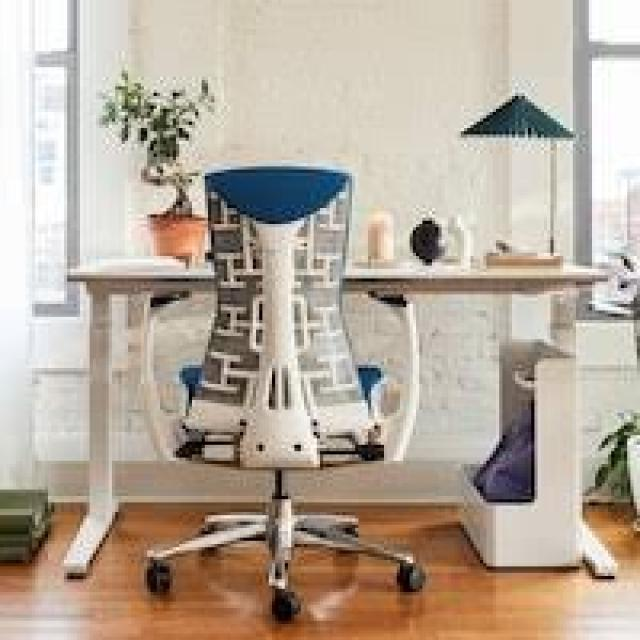chair: (120, 138, 472, 634)
